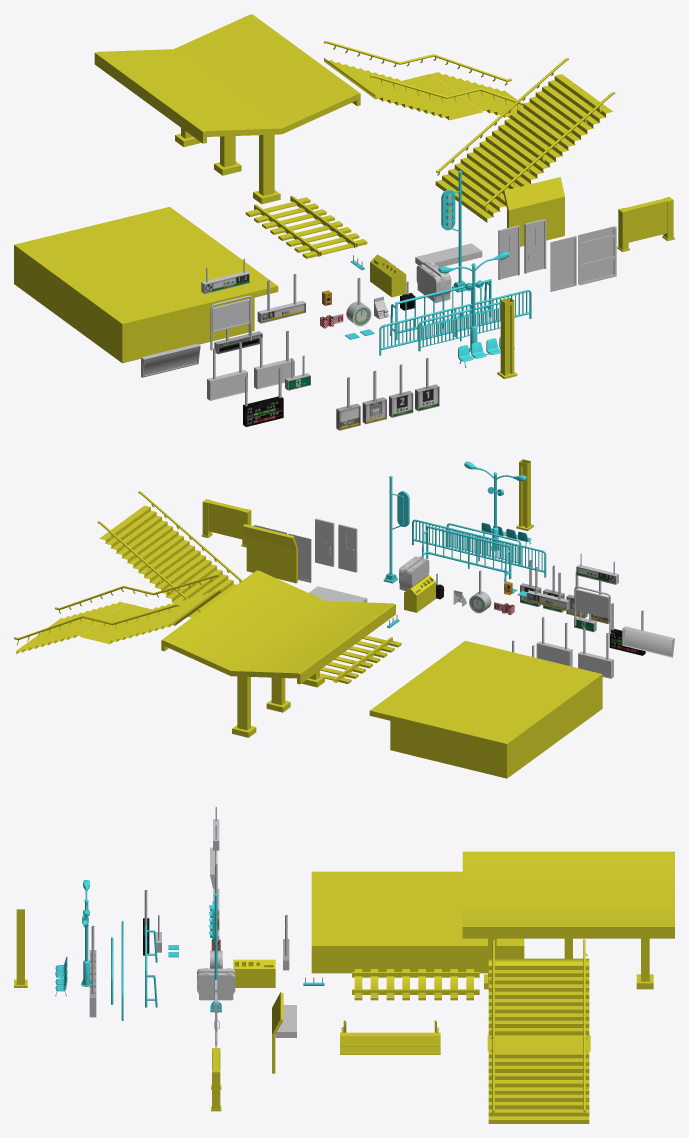
Rendered from trainstation_4U.fbx.
3 renders of one model, top to bottom at view 1: azimuth 30°, elevation 25°; view 2: azimuth 150°, elevation 25°; view 3: azimuth 270°, elevation 25°, orthographic. The views are drawn at different scales.
Visible parts, largest first — view 1: ts_obj_platform, ts_obj_canopy2, ts_obj_stairs_a_1, ts_obj_stairs_b_1, ts_obj_railroad, ts_obj_wall, ts_obj_fence_b, ts_obj_timetable, ts_fix_window_b__1, ts_fix_window_a_, ts_obj_fence_c, ts_obj_stationsign (+22 smaller); view 2: ts_obj_platform, ts_obj_canopy2, ts_obj_stairs_a_1, ts_obj_stairs_b_1, ts_obj_wall, ts_obj_fence_b, ts_obj_timetable, ts_obj_railroad, ts_obj_fence_a, ts_obj_mapboard, ts_obj_stationsign, ts_obj_lightpole_1 (+15 smaller); view 3: ts_obj_canopy2, ts_obj_stairs_b_1, ts_obj_platform, ts_obj_railroad, ts_obj_stairs_a_1, ts_obj_trashcan, ts_obj_ticketgate_core_1, ts_obj_pillar, ts_obj_lightpole_1, ts_obj_lightpole2, ts_obj_timetable, ts_obj_wall (+2 smaller).
Part boxes in pixels (box(x1,y1,x2,y2)): ts_obj_platform: box(14, 206, 278, 363); ts_obj_canopy2: box(94, 14, 360, 204); ts_obj_stairs_a_1: box(435, 58, 615, 222); ts_obj_stairs_b_1: box(324, 41, 523, 120); ts_obj_railroad: box(245, 195, 367, 258); ts_obj_wall: box(503, 177, 564, 246); ts_obj_fence_b: box(379, 290, 531, 355); ts_obj_timetable: box(617, 197, 674, 251); ts_fix_window_b__1: box(578, 226, 616, 285); ts_fix_window_a_: box(550, 236, 576, 291); ts_obj_fence_c: box(418, 302, 500, 351); ts_obj_stationsign: box(210, 295, 251, 350); ts_obj_platform: box(369, 640, 602, 778); ts_obj_canopy2: box(161, 570, 395, 737); ts_obj_stairs_a_1: box(97, 491, 242, 617); ts_obj_stairs_b_1: box(14, 574, 220, 654); ts_obj_wall: box(243, 524, 297, 583); ts_obj_fence_b: box(412, 519, 546, 577); ts_obj_timetable: box(201, 499, 251, 547); ts_obj_railroad: box(320, 635, 401, 683); ts_obj_fence_a: box(421, 525, 511, 582); ts_obj_mapboard: box(622, 626, 674, 657); ts_obj_stationsign: box(574, 586, 610, 634); ts_obj_lightpole_1: box(383, 476, 409, 583); ts_obj_canopy2: box(462, 851, 674, 989); ts_obj_stairs_b_1: box(487, 939, 590, 1123); ts_obj_platform: box(311, 871, 524, 973); ts_obj_railroad: box(352, 969, 479, 1000); ts_obj_stairs_a_1: box(340, 1020, 440, 1054); ts_obj_trashcan: box(233, 959, 275, 987); ts_obj_ticketgate_core_1: box(197, 970, 235, 1000); ts_obj_pillar: box(14, 909, 27, 987); ts_obj_lightpole_1: box(209, 893, 221, 1012); ts_obj_lightpole2: box(81, 880, 92, 986); ts_obj_timetable: box(211, 1048, 221, 1111); ts_obj_wall: box(272, 992, 283, 1073).
Bounding box in the file's own units: 2975 × 850 × 3112.
